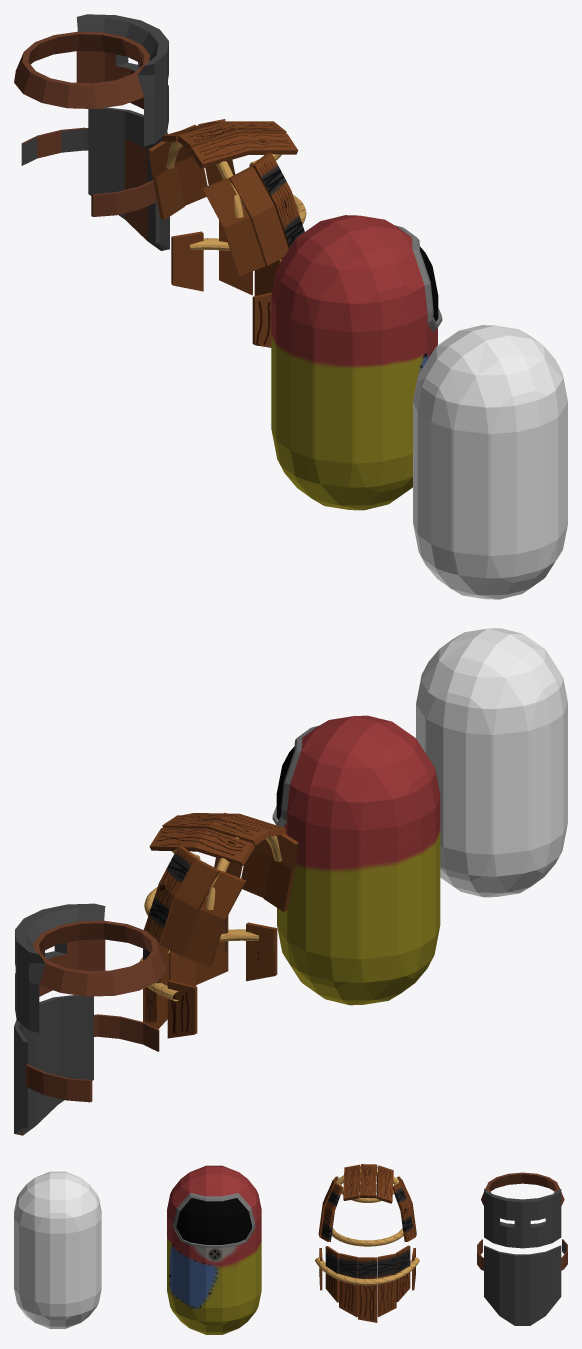
Rendered from ArmorPack.fbx.
3 views of the same model, one above another, from view 1: azimuth 30°, elevation 25°; view 2: azimuth 150°, elevation 25°; view 3: azimuth 270°, elevation 25° (orthographic). The views are drawn at different scales.
Visible parts, largest first — view 1: hazmatSuit, PlayerModel, WoodHelmet, MetalHelmet, MetalChest, woodChest; view 2: hazmatSuit, PlayerModel, WoodHelmet, MetalHelmet, MetalChest, woodChest; view 3: hazmatSuit, PlayerModel, MetalChest, woodChest, MetalHelmet, WoodHelmet.
Boxes of the visible parts, bbox=[...] form: hazmatSuit: bbox=[271, 215, 442, 510]; PlayerModel: bbox=[413, 325, 567, 599]; WoodHelmet: bbox=[148, 119, 306, 275]; MetalHelmet: bbox=[14, 14, 168, 145]; MetalChest: bbox=[21, 107, 169, 250]; woodChest: bbox=[171, 209, 283, 347]; hazmatSuit: bbox=[272, 715, 440, 1005]; PlayerModel: bbox=[416, 628, 567, 897]; WoodHelmet: bbox=[144, 812, 298, 966]; MetalHelmet: bbox=[15, 903, 166, 1032]; MetalChest: bbox=[14, 995, 159, 1135]; woodChest: bbox=[139, 901, 277, 1038]; hazmatSuit: bbox=[167, 1165, 261, 1334]; PlayerModel: bbox=[14, 1171, 101, 1328]; MetalChest: bbox=[477, 1239, 567, 1325]; woodChest: bbox=[315, 1245, 419, 1322]; MetalHelmet: bbox=[481, 1172, 564, 1248]; WoodHelmet: bbox=[318, 1164, 416, 1246].
Size of the model in its own units: 263 by 455 by 1430.
